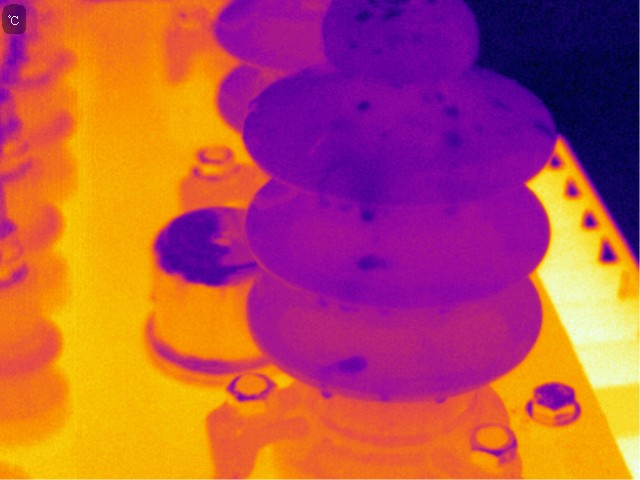Water: (355, 252, 391, 272), (336, 356, 369, 376), (531, 118, 556, 144), (484, 97, 518, 114), (439, 130, 466, 149), (381, 8, 410, 24), (357, 203, 378, 225), (351, 7, 374, 24), (354, 97, 373, 114), (443, 106, 462, 121), (349, 38, 363, 53), (320, 387, 334, 402), (387, 36, 404, 48), (379, 393, 395, 404), (434, 91, 448, 103), (432, 395, 450, 404), (412, 34, 423, 46), (421, 1, 439, 7)
